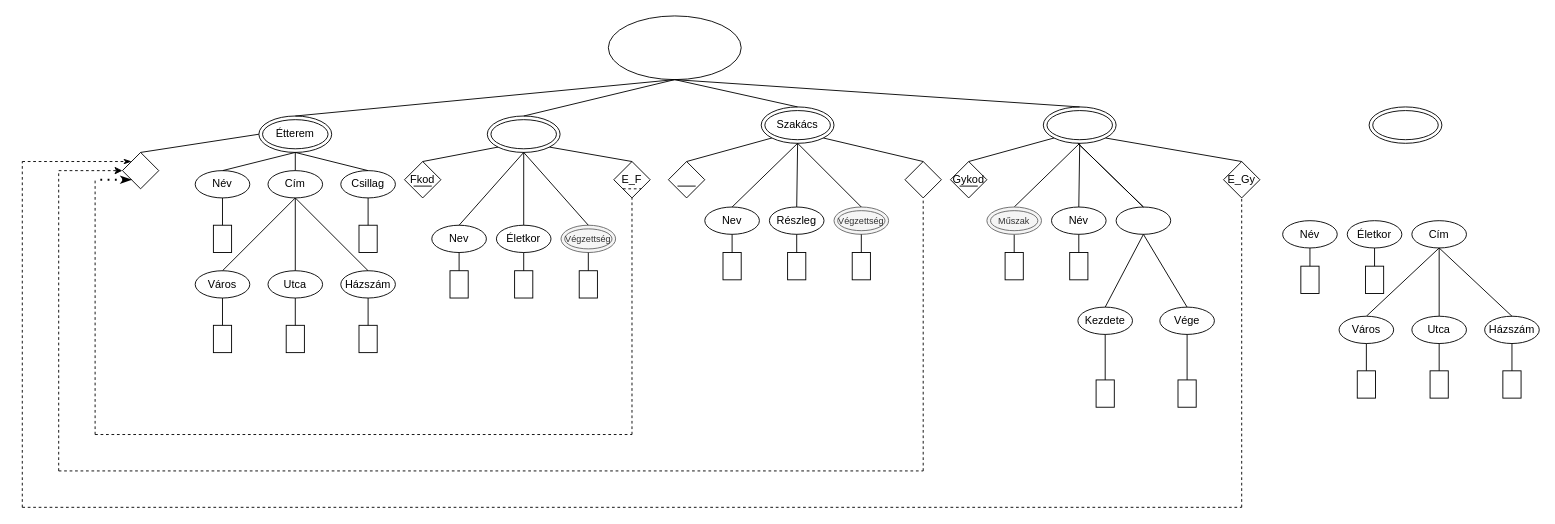
Some shapes in this 1555 by 524 pixel diagram are drawn without their labels. The shapes that lost their labels are listed below. From the top down, each one's centre as x and y in pixels, then its label:
At pixel 674 47: "OP9WRO_vendeglatas".
At pixel 523 133: "Főszakács".
At pixel 1079 124: "Gyakornok".
At pixel 1405 124: "Vendég".
At pixel 140 170: "Ekod".
At pixel 686 179: "Szkod".
At pixel 922 179: "E_Sz".
At pixel 1143 220: "Gyakorlat".
